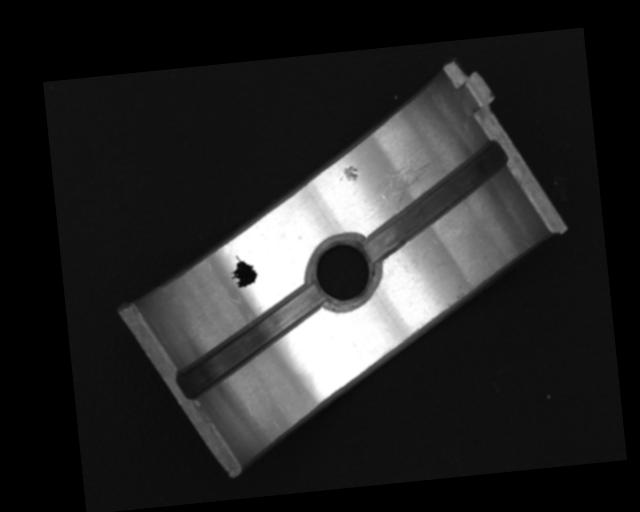blot: (228, 253, 259, 290)
bruise: (338, 164, 360, 183)
gap: (358, 140, 516, 263), (171, 283, 325, 399)
hole: (306, 235, 380, 309)
scratch: (378, 150, 454, 214)
